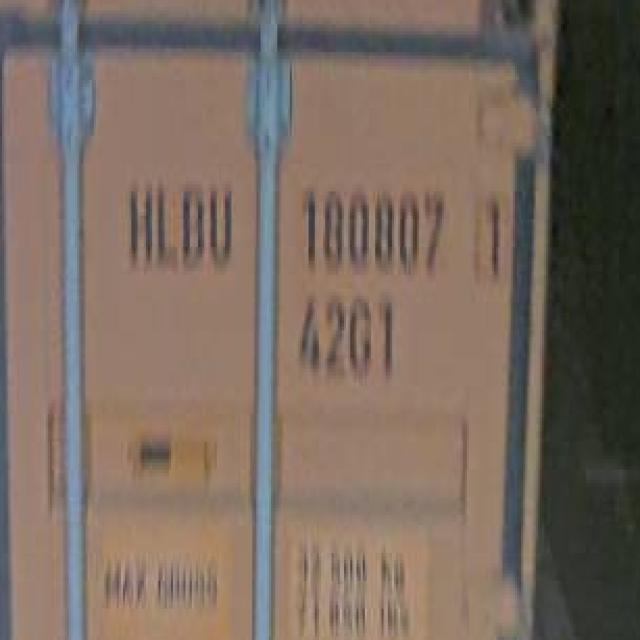dv: (474, 187, 512, 283)
owner: (121, 171, 239, 282)
serial: (295, 174, 449, 287)
size: (290, 289, 404, 396)
